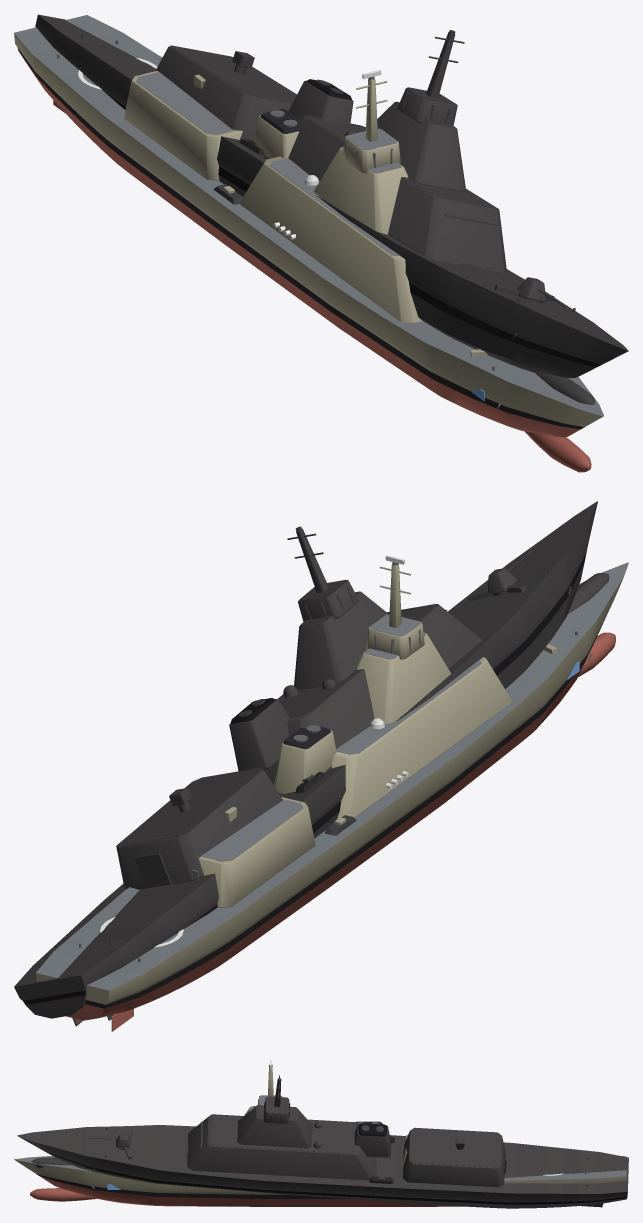
Rendered from asFrigate__mogami_class.glb.
The picture shows the model from 3 angles, top to bottom: view 1: azimuth 30°, elevation 25°; view 2: azimuth 150°, elevation 25°; view 3: azimuth 270°, elevation 25°; orthographic projection. The views are drawn at different scales.
Visible parts, largest first — view 1: Hull_Mesh, Wreck; view 2: Hull_Mesh, Wreck; view 3: Wreck, Hull_Mesh.
Boxes of the visible parts, x1=… form: Hull_Mesh: x1=14, y1=15, x2=603, y2=472; Wreck: x1=35, y1=14, x2=628, y2=404; Hull_Mesh: x1=36, y1=562, x2=628, y2=1031; Wreck: x1=14, y1=501, x2=609, y2=1026; Wreck: x1=17, y1=1075, x2=628, y2=1208; Hull_Mesh: x1=14, y1=1066, x2=626, y2=1206.
Size of what is drawn, in the model's own units: 22.6 by 36.88 by 139.
